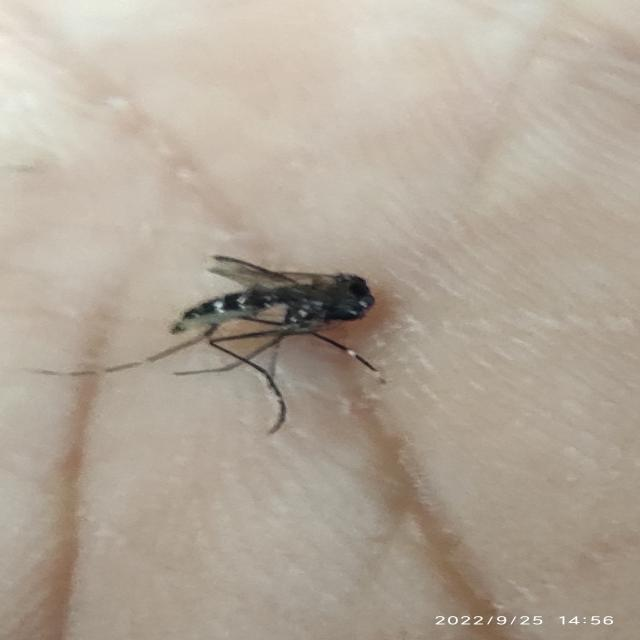albopictus: (117, 245, 390, 437)
